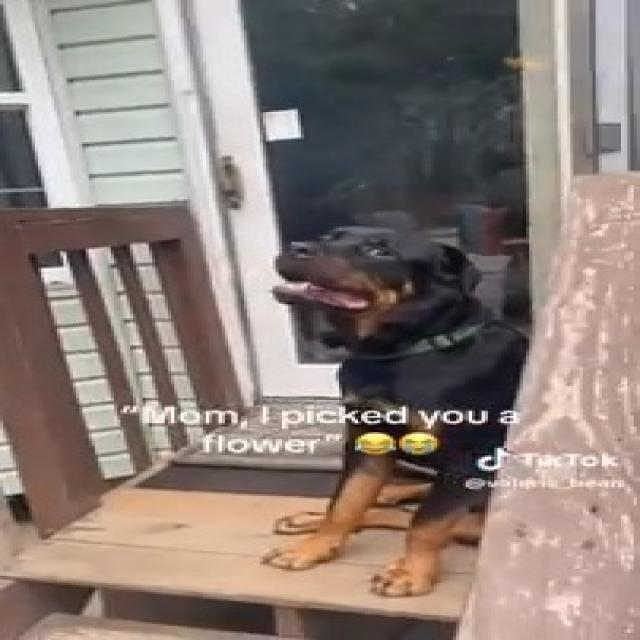dogs: (265, 209, 499, 599)
